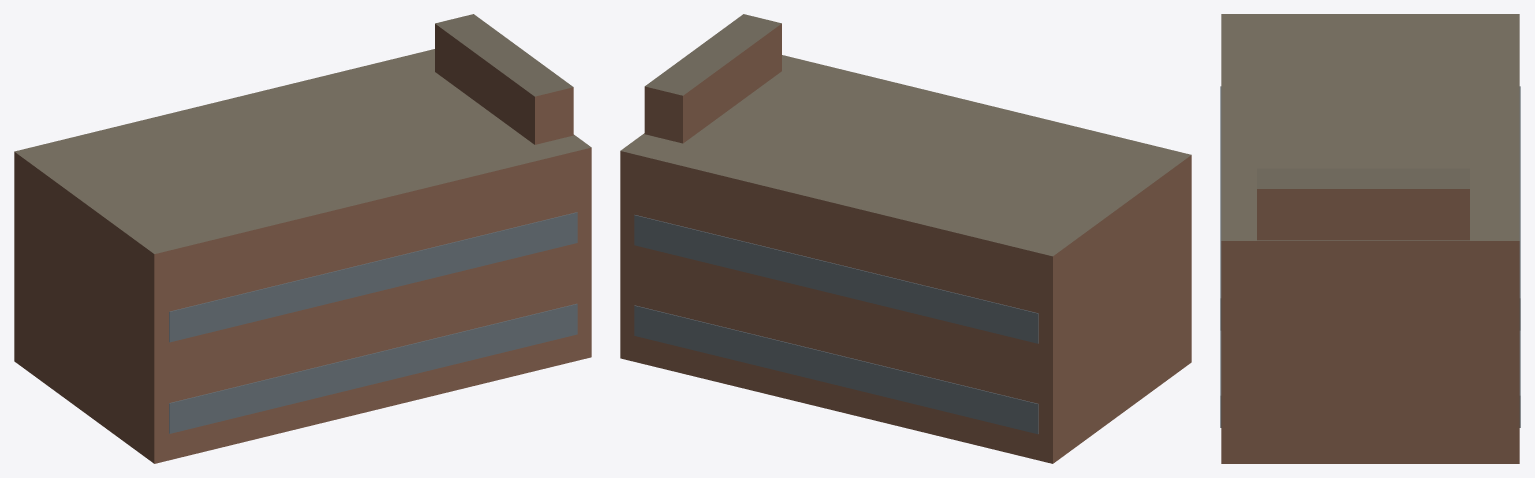
File: ew-workshop.tone-v1.lod2.glb
The picture shows the model from 3 angles, left to right: view 1: azimuth 30°, elevation 25°; view 2: azimuth 150°, elevation 25°; view 3: azimuth 270°, elevation 25°; orthographic projection. The views are drawn at different scales.
Visible parts, largest first — view 1: ew-workshop; view 2: ew-workshop; view 3: ew-workshop.
Boxes of the visible parts, <box> form: ew-workshop: <box>14,14,591,463</box>; ew-workshop: <box>620,14,1191,463</box>; ew-workshop: <box>1220,14,1520,463</box>.
Bounding box in the file's own units: 18 × 10.15 × 10.06.
